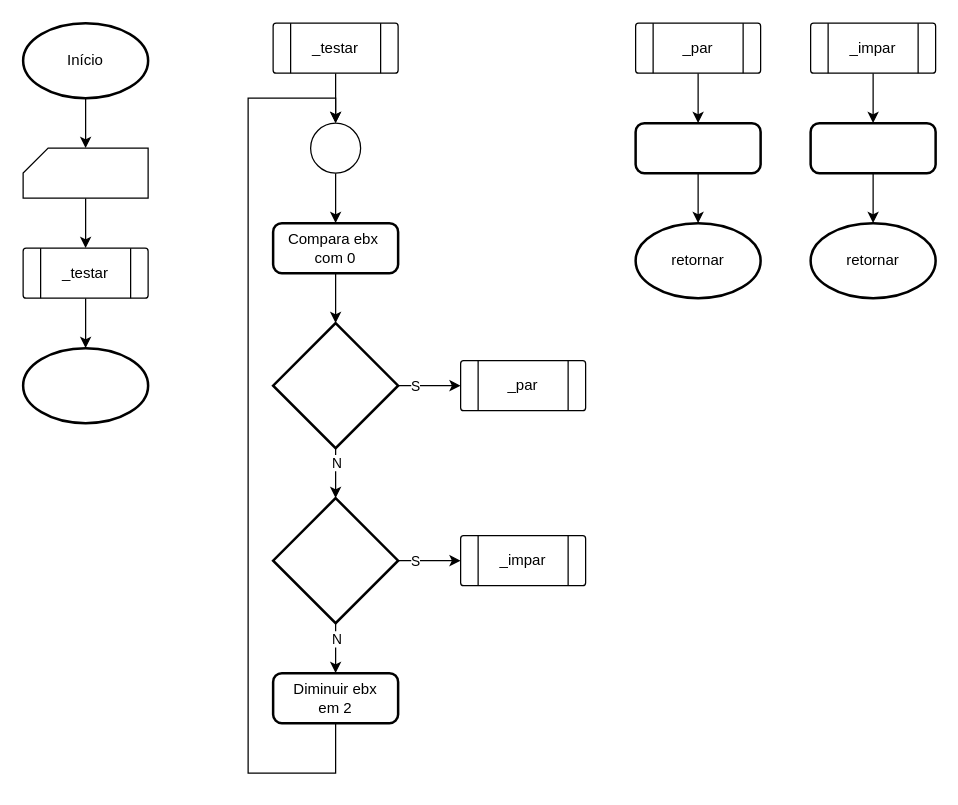
The diagram is 958 pixels wide and 805 high, and some of its shapes have lost their labels. The shapes that lost their labels are listed below. From the top down, each one's centre as x and y in pixels, then its label:
point (697, 147): Move 1 para o retorno
point (872, 147): Move 0 para o retorno
point (85, 172): receber parâmetro
point (85, 385): Fim
point (335, 385): se igual
point (335, 560): se menor
